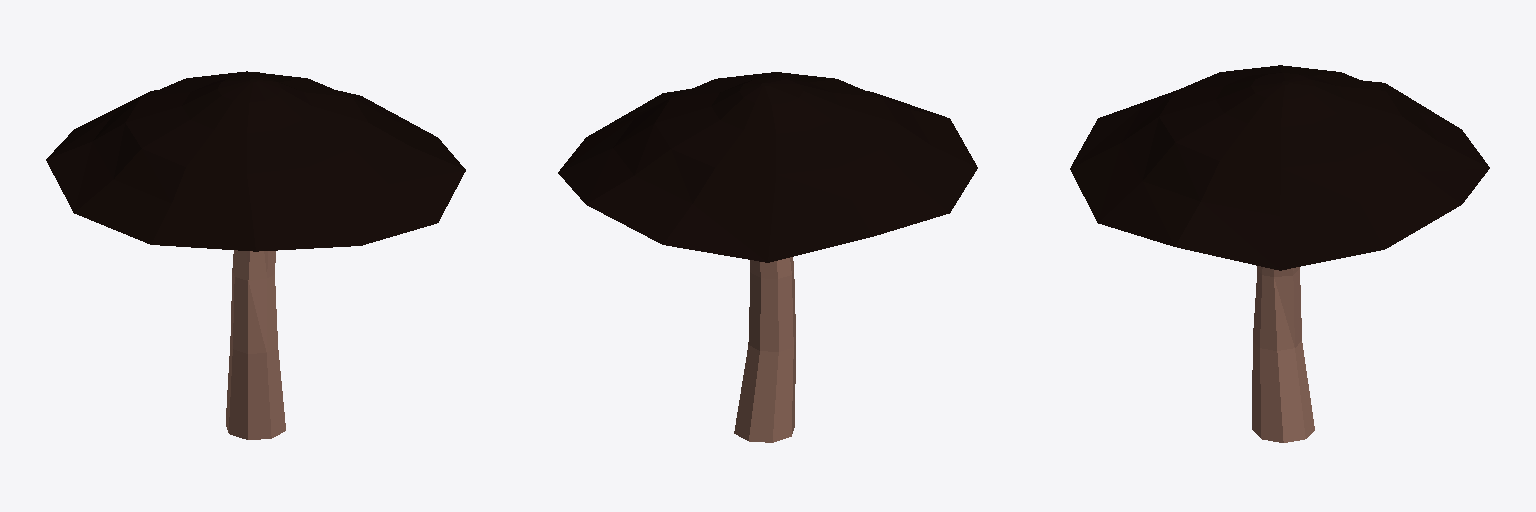
The model's file is Mushroom1.obj.
The picture shows the model from 3 angles: view 1: azimuth 30°, elevation 25°; view 2: azimuth 150°, elevation 25°; view 3: azimuth 270°, elevation 25°; orthographic projection.
Parts seen in each view (by area): view 1: Circle; view 2: Circle; view 3: Circle.
Part boxes in pixels (bbox=[...]): Circle: bbox=[46, 71, 465, 439]; Circle: bbox=[558, 72, 977, 442]; Circle: bbox=[1070, 65, 1489, 442].
Size of the model in its own units: 13.37 by 12.15 by 13.37.